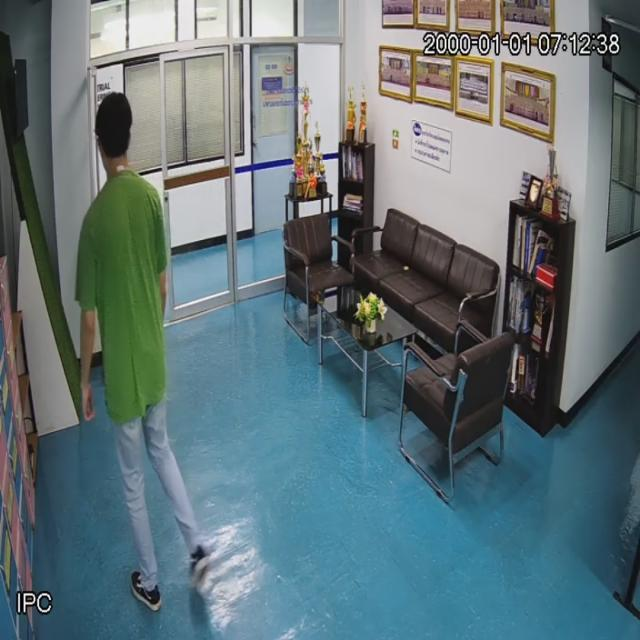normal: (77, 90, 190, 599)
